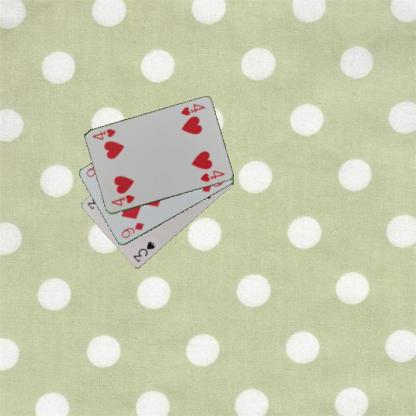3s: (131, 239, 156, 264)
4h: (108, 192, 136, 208), (178, 102, 206, 116)
9d: (118, 220, 145, 240)
